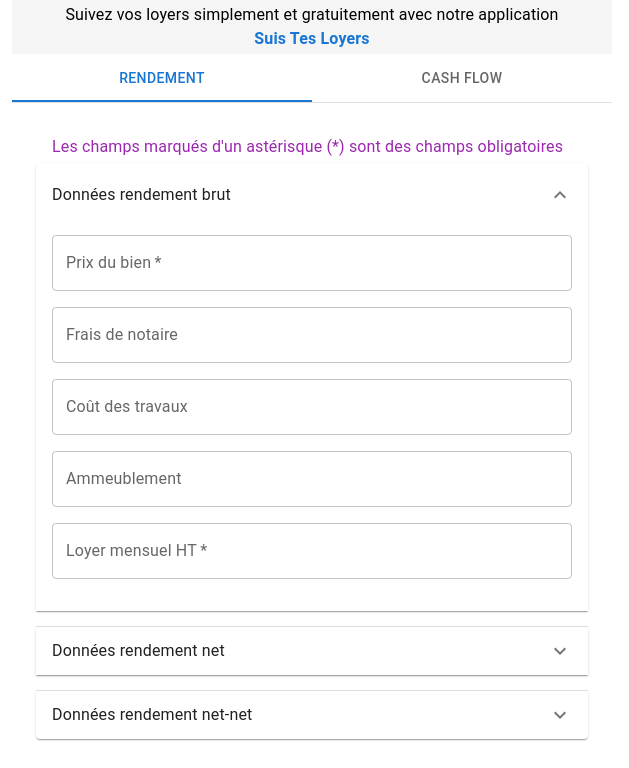
Test: Yield view is render correctly › yield calculation are ok
Type "40000" into the number field labelled "Prix du bien *" at (312, 263), box [52,235,572,291]
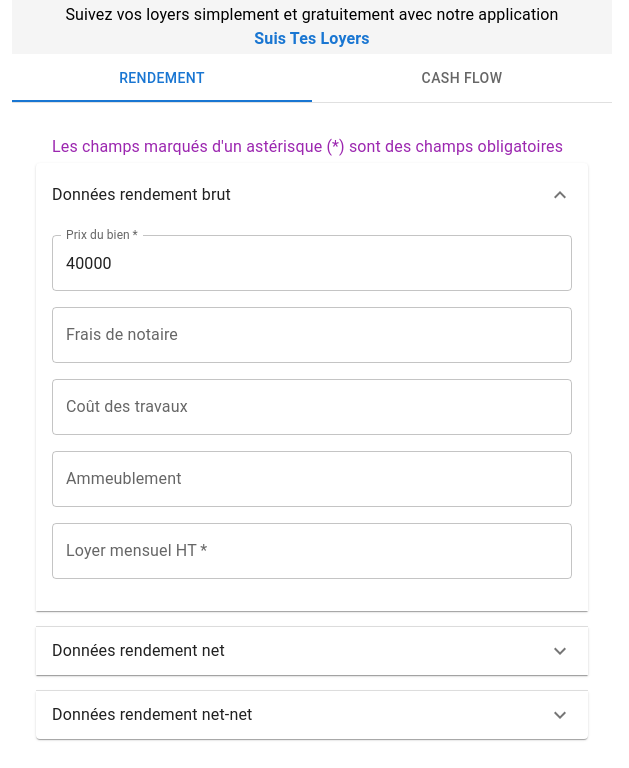
Type "300" into the number field labelled "Loyer mensuel HT *" at (312, 551), box [52,523,572,579]
(page scrolled)
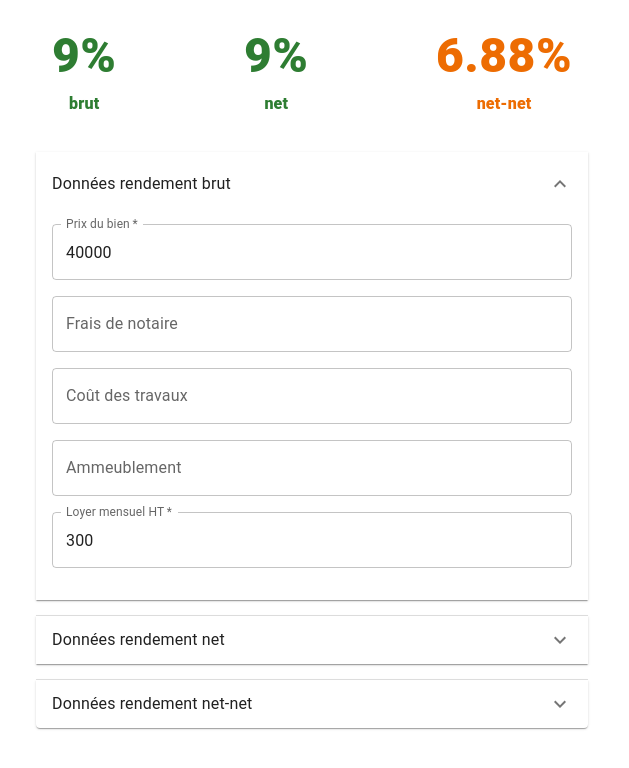
Click the button "Données rendement net" at (138, 640), box [52,628,572,652]
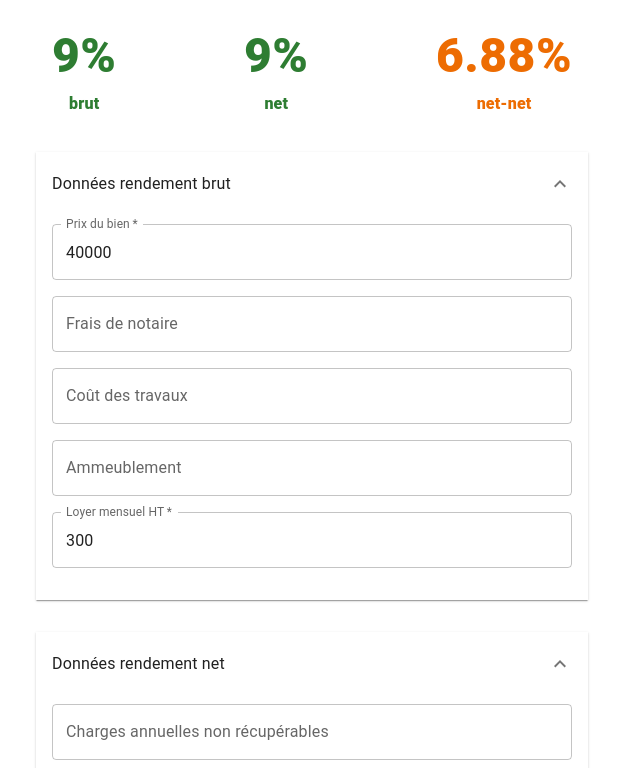
Type "500" into the number field labelled "Charges annuelles non récupérables" at (312, 732), box [52,704,572,760]
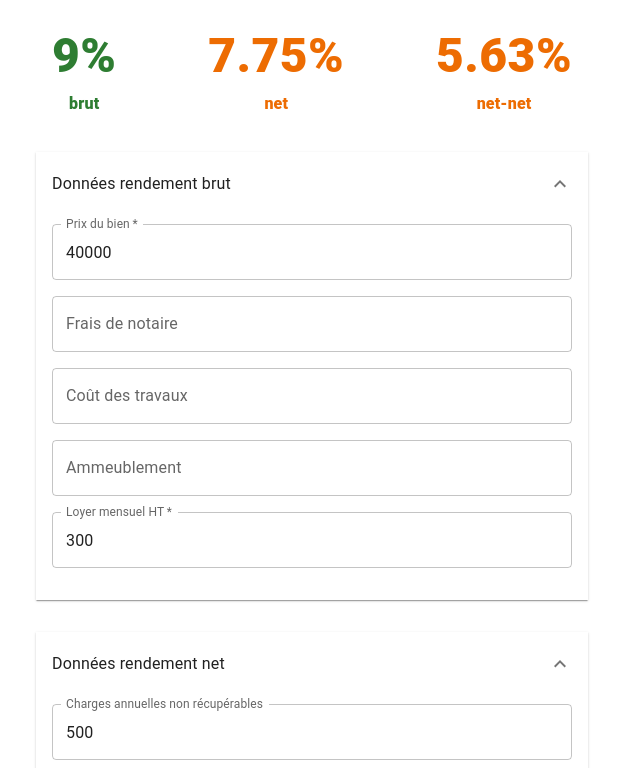
Check: the text "9%" is shown, box [52,20,116,92]
Check: the text "7.75%" is shown, box [208,20,344,92]
Check: the text "5.63%" is shown, box [436,20,572,92]
